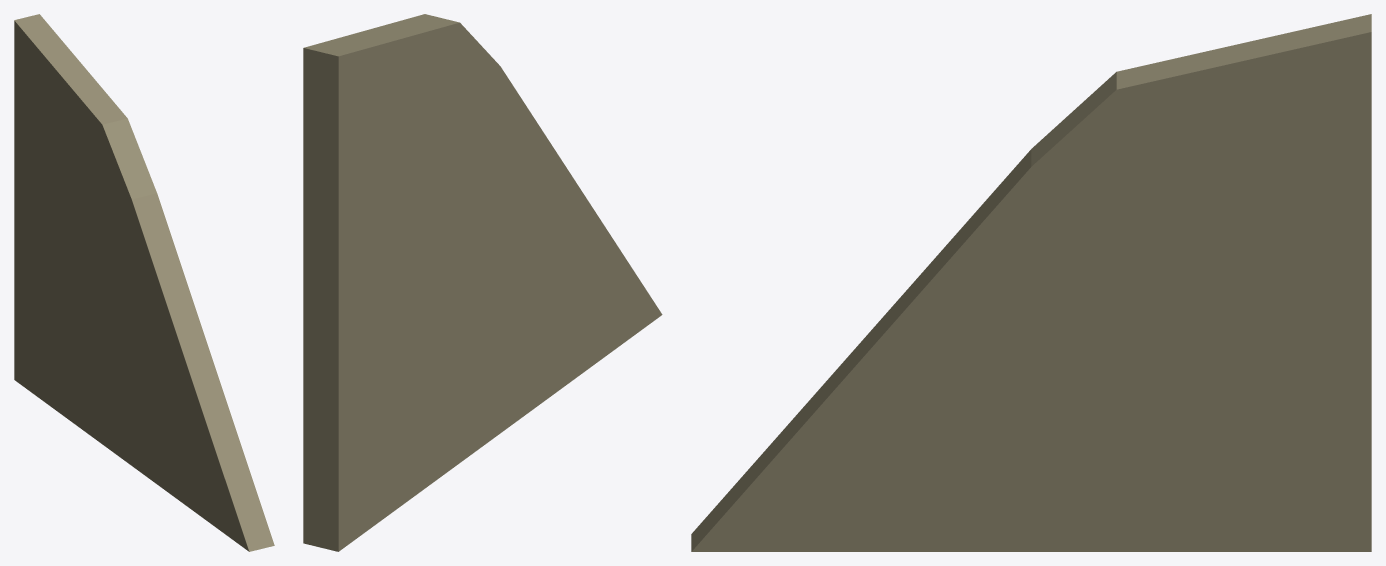
File: victorian_roof_1_side.fbx
The picture shows the model from 3 angles, left to right: view 1: azimuth 30°, elevation 25°; view 2: azimuth 150°, elevation 25°; view 3: azimuth 270°, elevation 25°; orthographic projection. The views are drawn at different scales.
Parts seen in each view (by area): view 1: Cube.236; view 2: Cube.236; view 3: Cube.236.
Part boxes in pixels (x1=…): Cube.236: x1=14, y1=14, x2=274, y2=551; Cube.236: x1=303, y1=14, x2=662, y2=551; Cube.236: x1=691, y1=14, x2=1371, y2=551.
Size of the model in its own units: 20 by 270 by 320.
